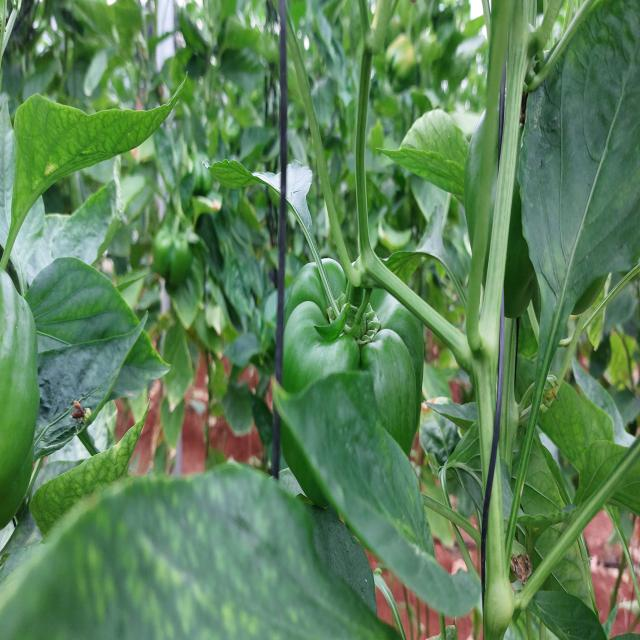Green--Not-ready-to-harvest: (273, 255, 421, 515), (0, 268, 38, 536)
